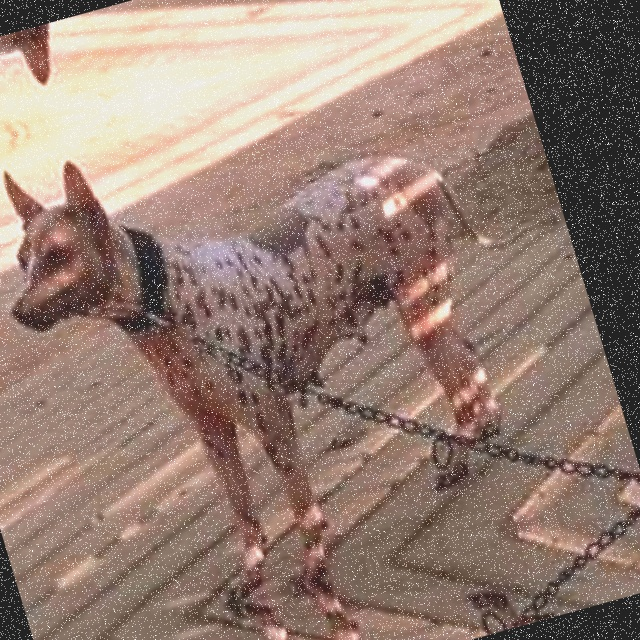dog: (0, 57, 559, 622), (88, 536, 595, 640), (0, 0, 409, 120)
